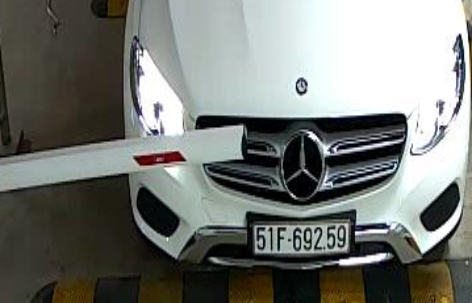plate: (249, 216, 352, 256)
